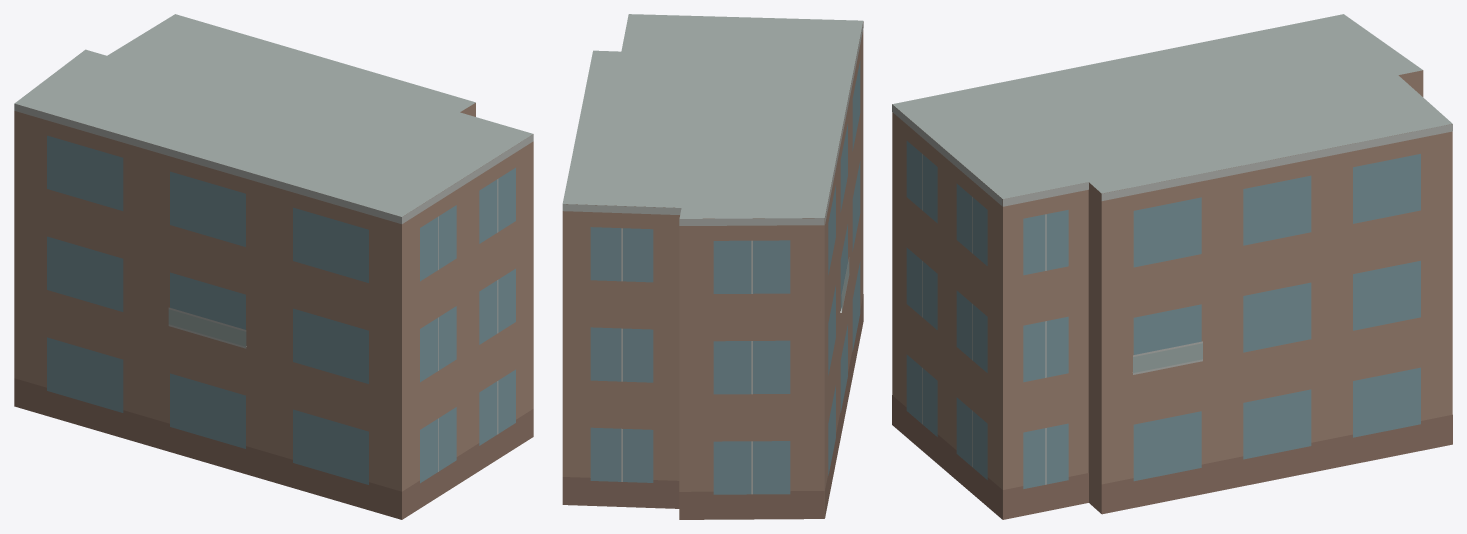
The model's file is survey-upis-32708306.glb.
3 renders of one model, left to right at view 1: azimuth 30°, elevation 25°; view 2: azimuth 150°, elevation 25°; view 3: azimuth 270°, elevation 25°, orthographic. The views are drawn at different scales.
Visible parts, largest first — view 1: survey-upis-32708306.tmp; view 2: survey-upis-32708306.tmp; view 3: survey-upis-32708306.tmp.
Part boxes in pixels (box(x1,y1,x2,y2)): survey-upis-32708306.tmp: box(14, 14, 533, 519); survey-upis-32708306.tmp: box(562, 14, 863, 519); survey-upis-32708306.tmp: box(892, 14, 1452, 519).
Bounding box in the file's own units: 12.64 × 10.2 × 16.17.
